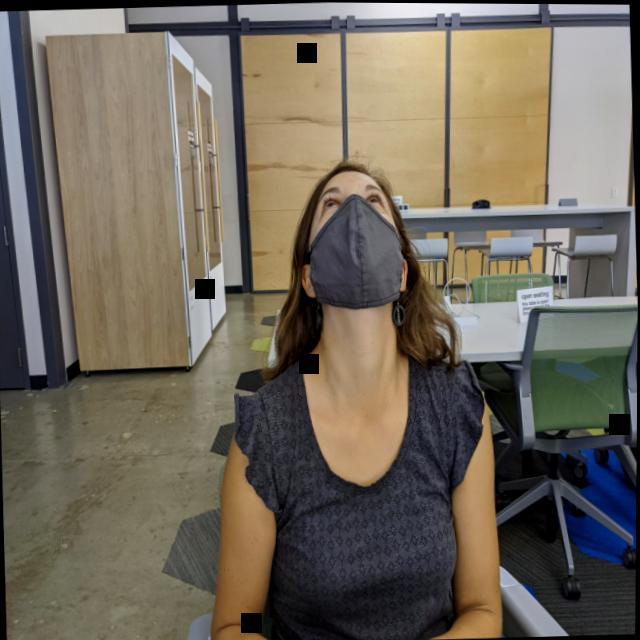Mask: (301, 171, 408, 314)
